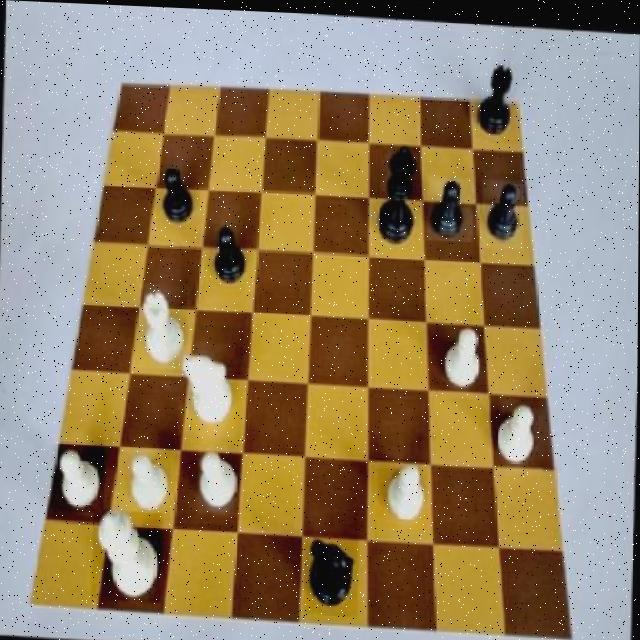black-bishop: (376, 142, 426, 249)
black-king: (304, 532, 360, 612)
black-knight: (209, 223, 256, 294), (426, 172, 474, 238), (153, 161, 199, 229), (481, 175, 524, 246)
black-queen: (475, 55, 516, 139)
white-bishop: (92, 508, 163, 601)
white-king: (179, 340, 236, 436)
white-knight: (120, 444, 174, 516), (493, 394, 546, 467), (53, 444, 106, 513), (379, 453, 430, 518), (196, 444, 240, 514), (438, 323, 486, 384)
white-queen: (138, 282, 191, 368)
